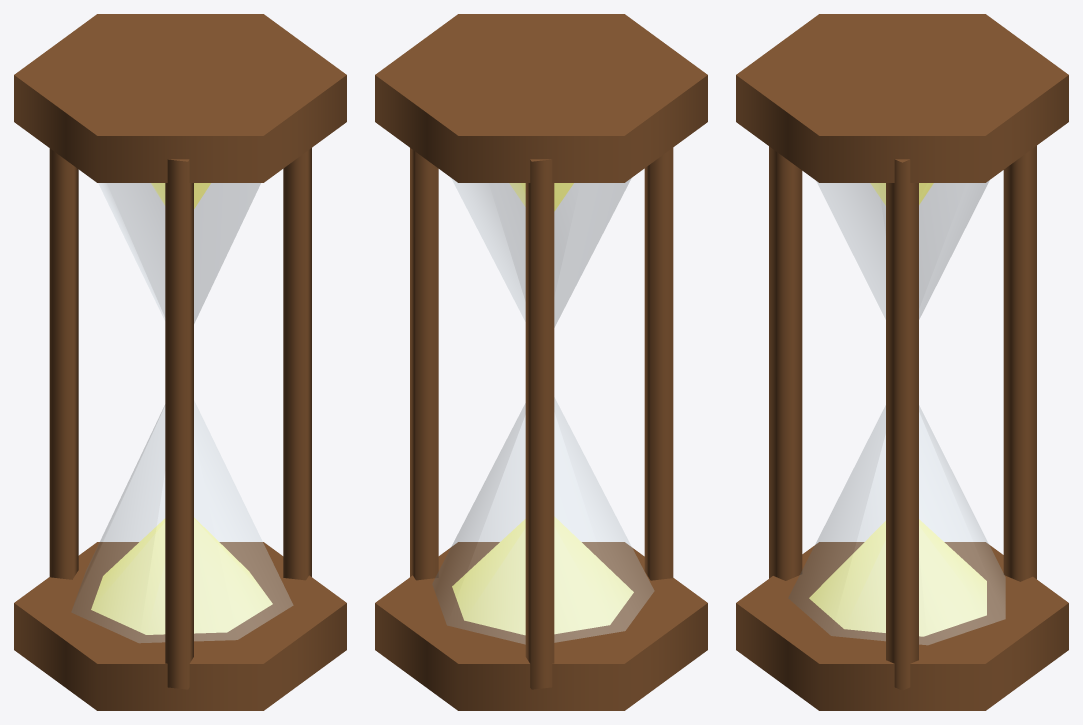
The model's file is quiz_hourglass.glb.
3 renders of one model, left to right at view 1: azimuth 30°, elevation 25°; view 2: azimuth 150°, elevation 25°; view 3: azimuth 270°, elevation 25°, orthographic.
Visible parts, largest first — view 1: item_hgWood, item_hgGlass, item_hgSand; view 2: item_hgWood, item_hgGlass, item_hgSand; view 3: item_hgWood, item_hgGlass, item_hgSand.
Part boxes in pixels (x1,y1,x2,y2): item_hgWood: (14,14,346,710); item_hgGlass: (71,183,293,642); item_hgSand: (91,183,272,634); item_hgWood: (375,14,707,710); item_hgGlass: (432,178,654,644); item_hgSand: (452,183,633,634); item_hgWood: (736,14,1068,710); item_hgGlass: (788,180,1005,644); item_hgSand: (809,183,986,636).
Bounding box in the file's own units: 0.185 × 0.3965 × 0.208.
